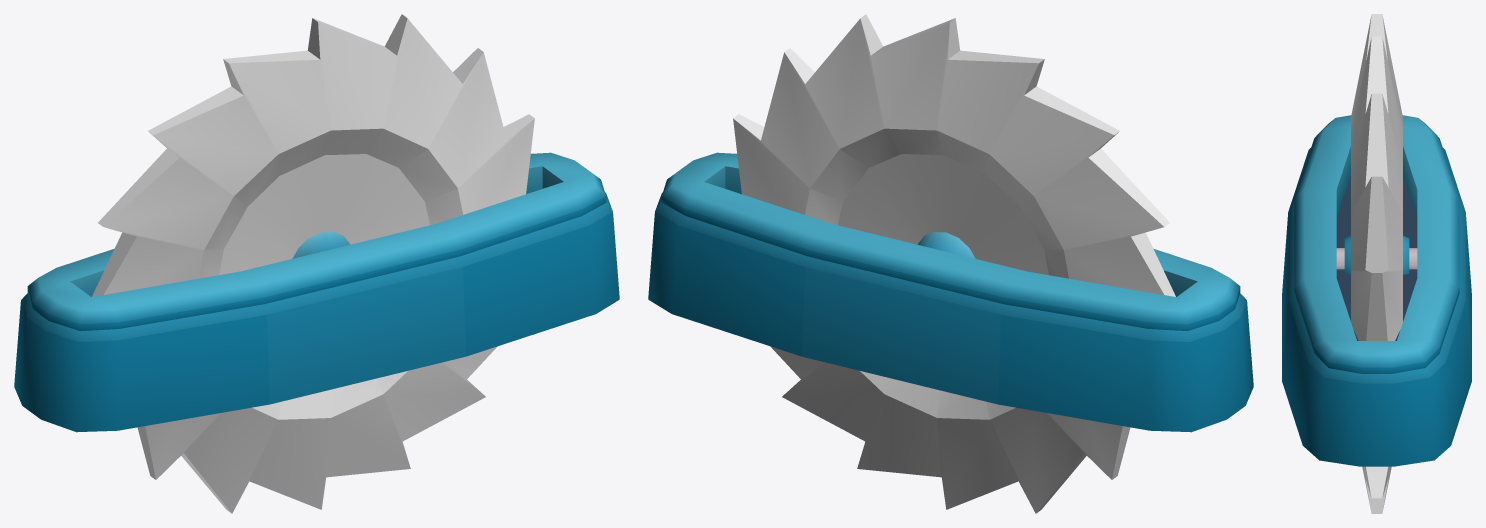
File: Obstacle-1.fbx
3 renders of one model, left to right at view 1: azimuth 30°, elevation 25°; view 2: azimuth 150°, elevation 25°; view 3: azimuth 270°, elevation 25°, orthographic. The views are drawn at different scales.
Parts seen in each view (by area): view 1: Circle, obs-1; view 2: Circle, obs-1; view 3: obs-1, Circle.
Part boxes in pixels (x1,y1,x2,y2): Circle: (92,14,534,513); obs-1: (14,152,619,432); Circle: (733,14,1175,513); obs-1: (648,152,1253,432); obs-1: (1282,115,1471,466); Circle: (1336,14,1417,513).
Bounding box in the file's own units: 2.27 × 1.86 × 0.7055.
